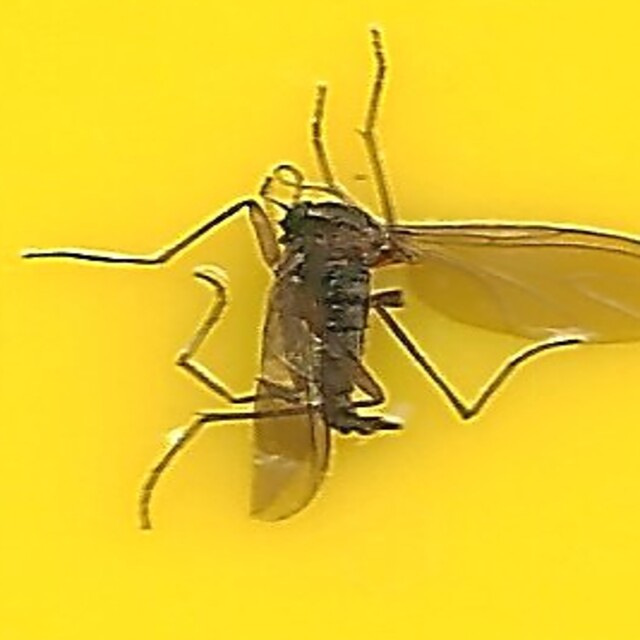Nematocera: (240, 188, 400, 452)
